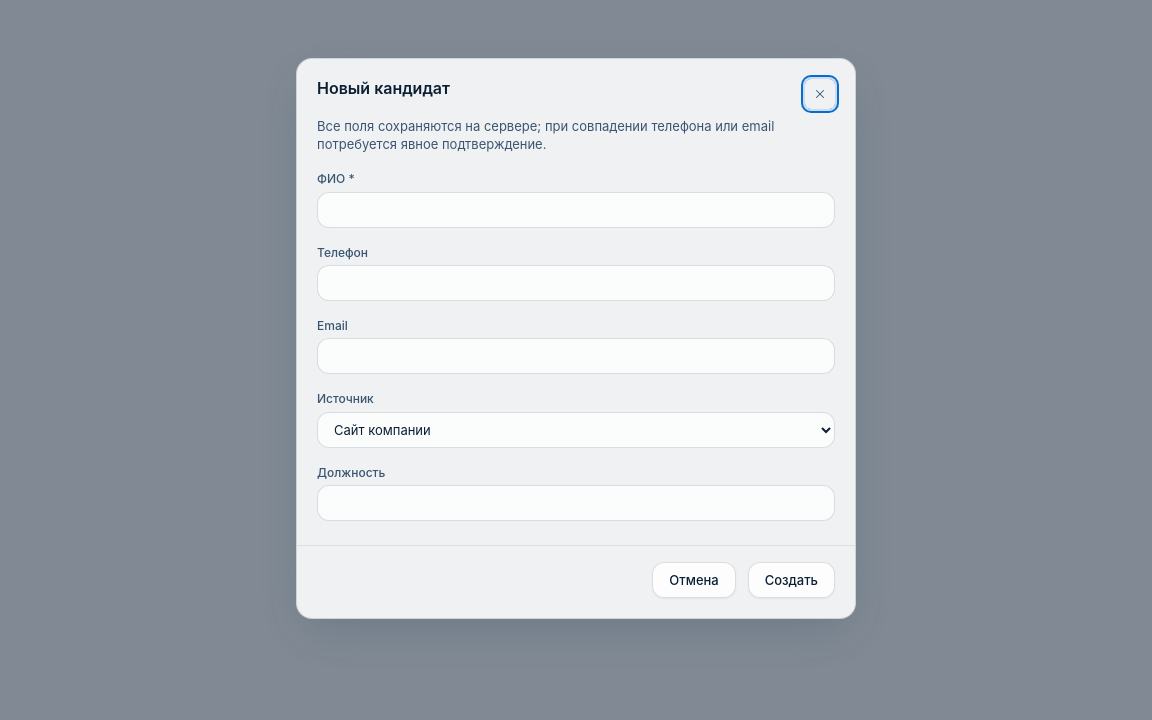
Test: CandidateFormModal › blocks an empty full name
The width and height of the screenshot is (1152, 720).
Click the button "Создать".
click(791, 580)  # box [748, 562, 835, 598]
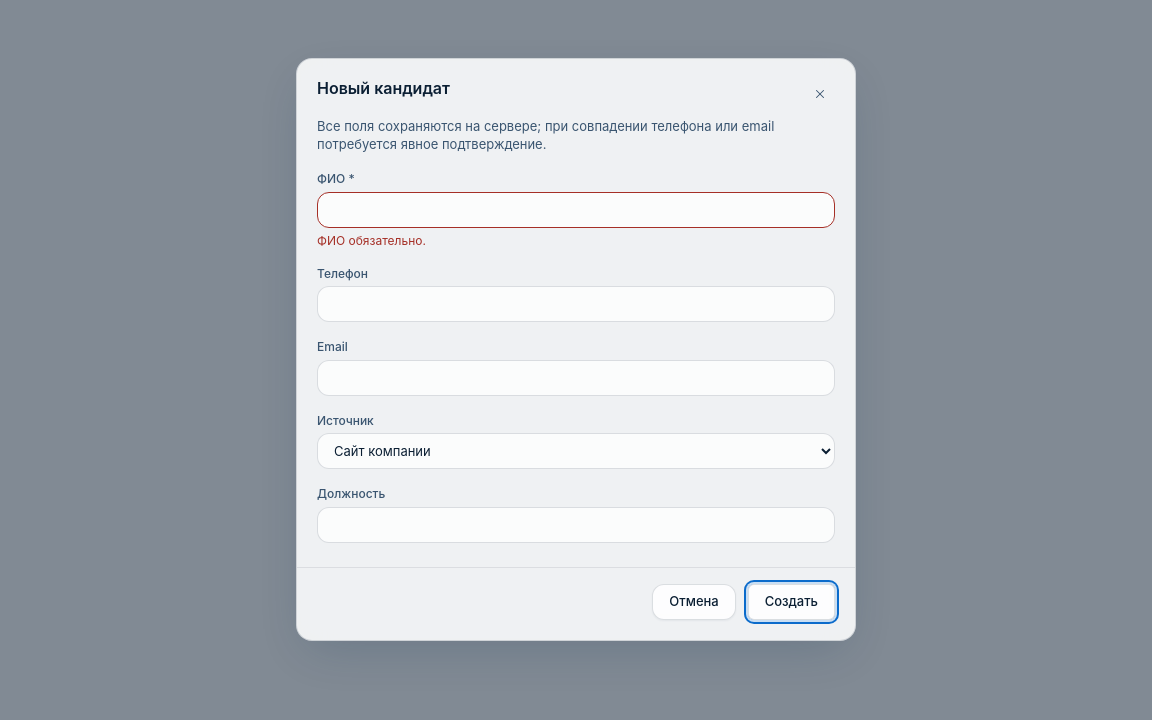
Check: the text "ФИО обязательно." is shown, box [317, 233, 426, 248]
